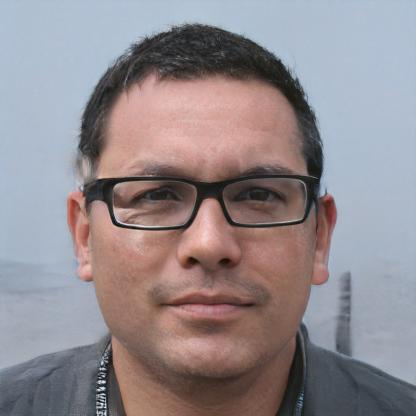glasses: (96, 169, 316, 233)
